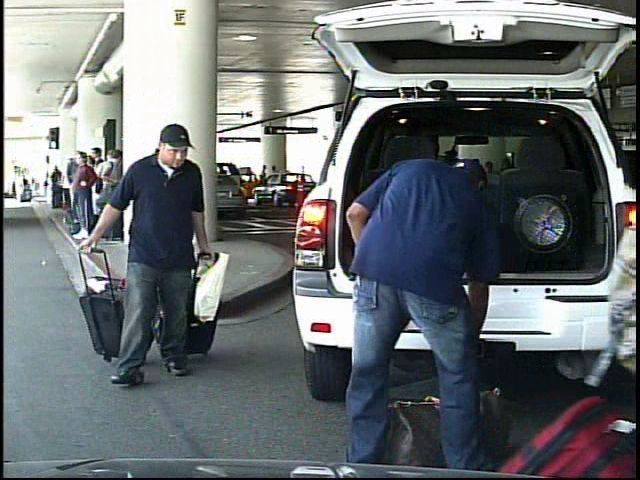person: (314, 123, 500, 476), (82, 117, 226, 397), (14, 171, 25, 202), (258, 163, 269, 179)
